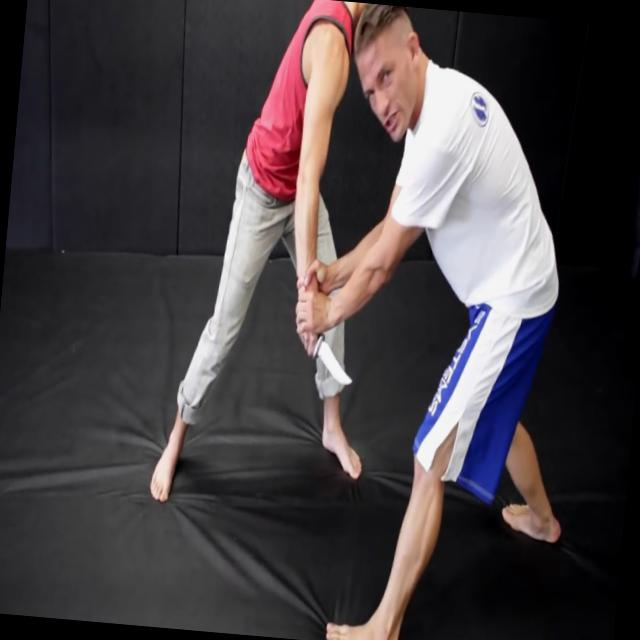knife: (289, 320, 362, 392)
